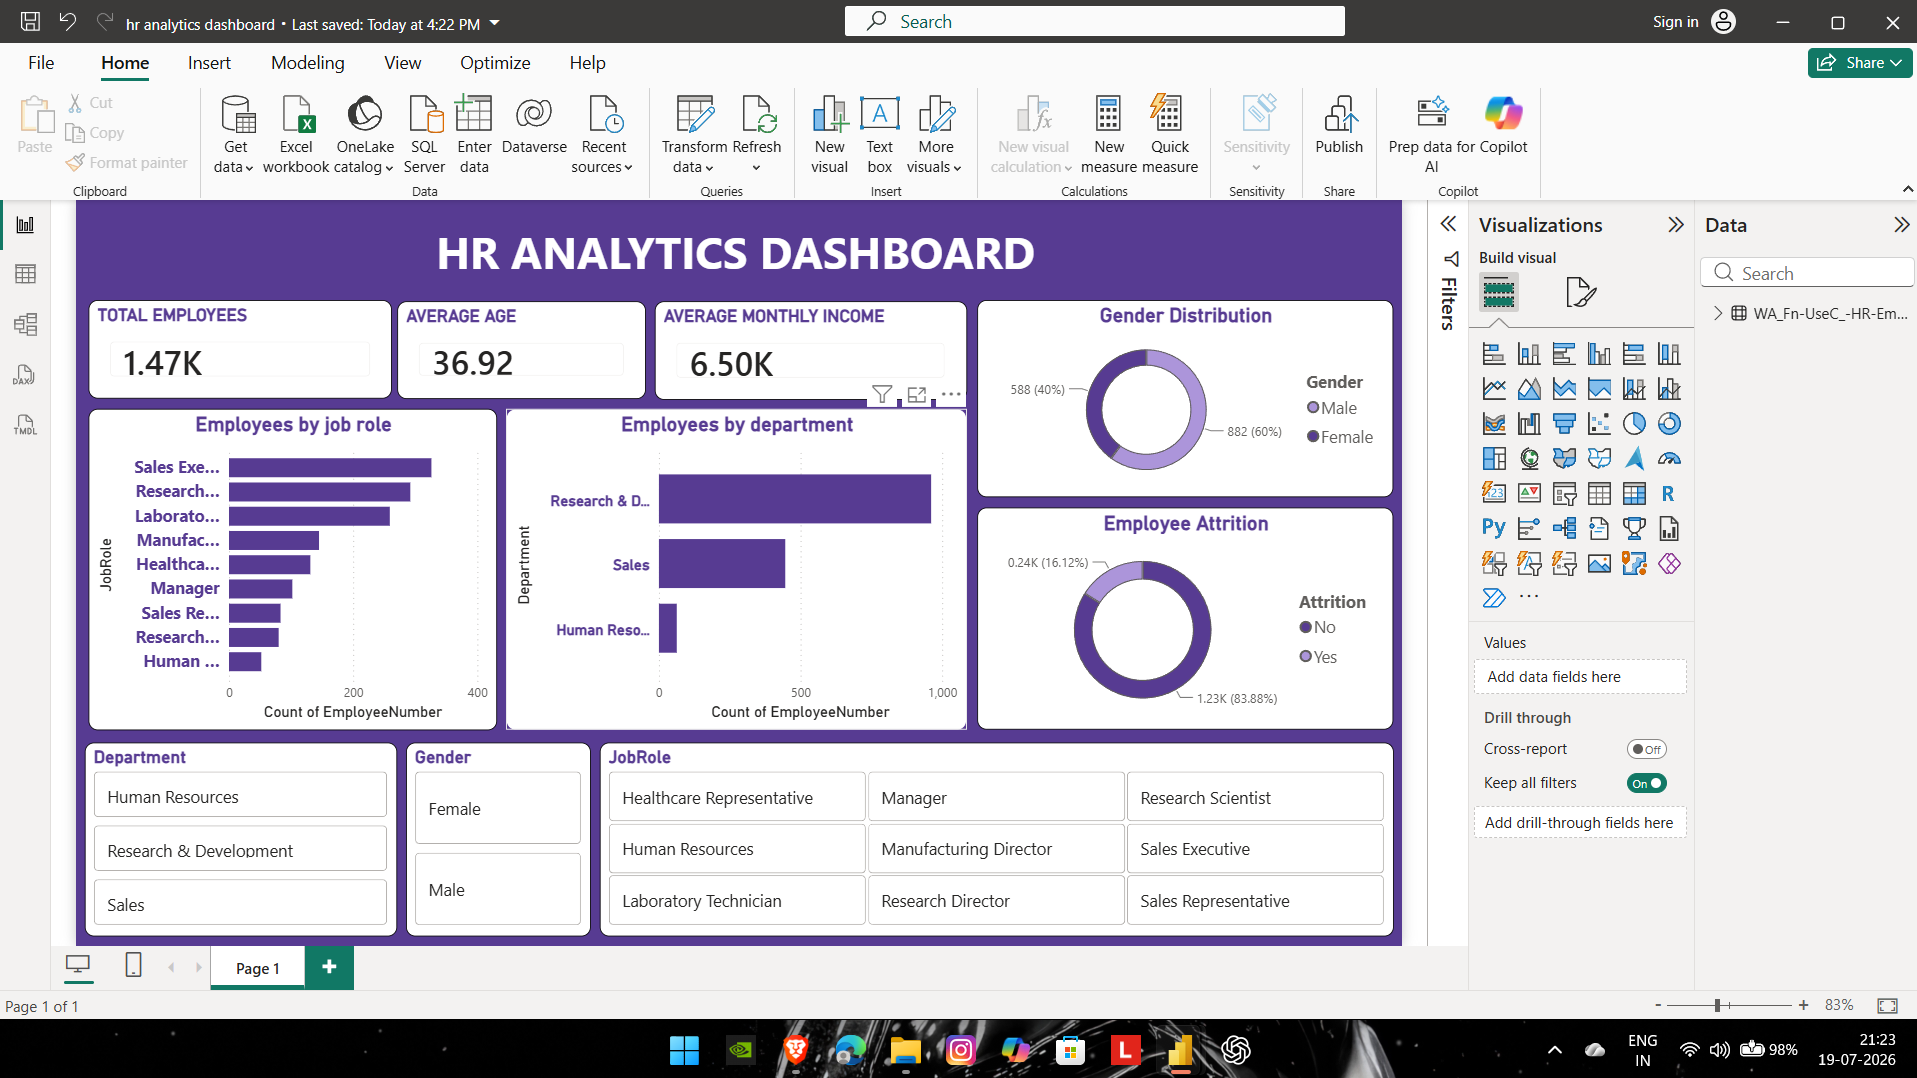

The dashboard page shown, as its layout file describes it:
{"tool":"powerbi","page":{"name":"Page 1","canvas":[1280,720],"ordinal":0},"visuals":[{"type":"cardVisual","title":"TOTAL EMPLOYEES","fields":{"Data":["CountNonNull(WA_Fn-UseC_-HR-Employee-Attriti.EmployeeNumber)"]},"box":[12.1,96.5,293.2,95.3],"z":0},{"type":"cardVisual","title":"AVERAGE AGE","fields":{"Data":["Avg(WA_Fn-UseC_-HR-Employee-Attriti.Age)"]},"box":[310.1,97.7,240.1,94.1],"z":1000},{"type":"cardVisual","title":"AVERAGE MONTHLY INCOME","fields":{"Data":["Avg(WA_Fn-UseC_-HR-Employee-Attriti.MonthlyIncome)"]},"box":[558.6,97.7,301.6,95.3],"z":2000},{"type":"clusteredBarChart","title":"Employees by department ","fields":{"Category":["WA_Fn-UseC_-HR-Employee-Attriti.Department"],"Y":["CountNonNull(WA_Fn-UseC_-HR-Employee-Attriti.EmployeeNumber)"]},"box":[415,201.5,445.2,310.1],"z":3000},{"type":"barChart","title":"Employees by job role","fields":{"Category":["WA_Fn-UseC_-HR-Employee-Attriti.JobRole"],"Y":["CountNonNull(WA_Fn-UseC_-HR-Employee-Attriti.EmployeeNumber)"]},"box":[12.1,201.5,394.5,310.1],"z":4000},{"type":"donutChart","title":"Gender Distribution","fields":{"Category":["WA_Fn-UseC_-HR-Employee-Attriti.Gender"],"Y":["CountNonNull(WA_Fn-UseC_-HR-Employee-Attriti.EmployeeNumber)"]},"box":[869.8,96.5,401.7,190.6],"z":5000},{"type":"donutChart","title":" Employee Attrition","fields":{"Y":["CountNonNull(WA_Fn-UseC_-HR-Employee-Attriti.EmployeeNumber)"],"Category":["WA_Fn-UseC_-HR-Employee-Attriti.Attrition"]},"box":[869.8,296.8,401.7,214.7],"z":6000},{"type":"advancedSlicerVisual","fields":{"Values":["WA_Fn-UseC_-HR-Employee-Attriti.Department"]},"box":[8.4,523.6,301.6,187],"z":7000},{"type":"advancedSlicerVisual","fields":{"Values":["WA_Fn-UseC_-HR-Employee-Attriti.Gender"]},"box":[318.5,523.6,178.6,187],"z":8000},{"type":"advancedSlicerVisual","fields":{"Values":["WA_Fn-UseC_-HR-Employee-Attriti.JobRole"]},"box":[505.5,523.6,766.1,187],"z":9000},{"type":"textbox","box":[342.4,15.9,602.9,72.1],"z":10000}]}

Visuals, with their boxes on the page's 1280x720 design canvas (x1, y1, x2, y2). These are canvas units, not pixel positions in the 1917x1078 screenshot, which may show the page scaled, cropped or inside an application window:
"TOTAL EMPLOYEES" cardVisual: [12,96,305,192]
"AVERAGE AGE" cardVisual: [310,98,550,192]
"AVERAGE MONTHLY INCOME" cardVisual: [559,98,860,193]
"Employees by department " clusteredBarChart: [415,202,860,512]
"Employees by job role" barChart: [12,202,407,512]
"Gender Distribution" donutChart: [870,96,1272,287]
" Employee Attrition" donutChart: [870,297,1272,512]
advancedSlicerVisual - WA_Fn-UseC_-HR-Employee-Attriti.Department: [8,524,310,711]
advancedSlicerVisual - WA_Fn-UseC_-HR-Employee-Attriti.Gender: [318,524,497,711]
advancedSlicerVisual - WA_Fn-UseC_-HR-Employee-Attriti.JobRole: [506,524,1272,711]
textbox: [342,16,945,88]
